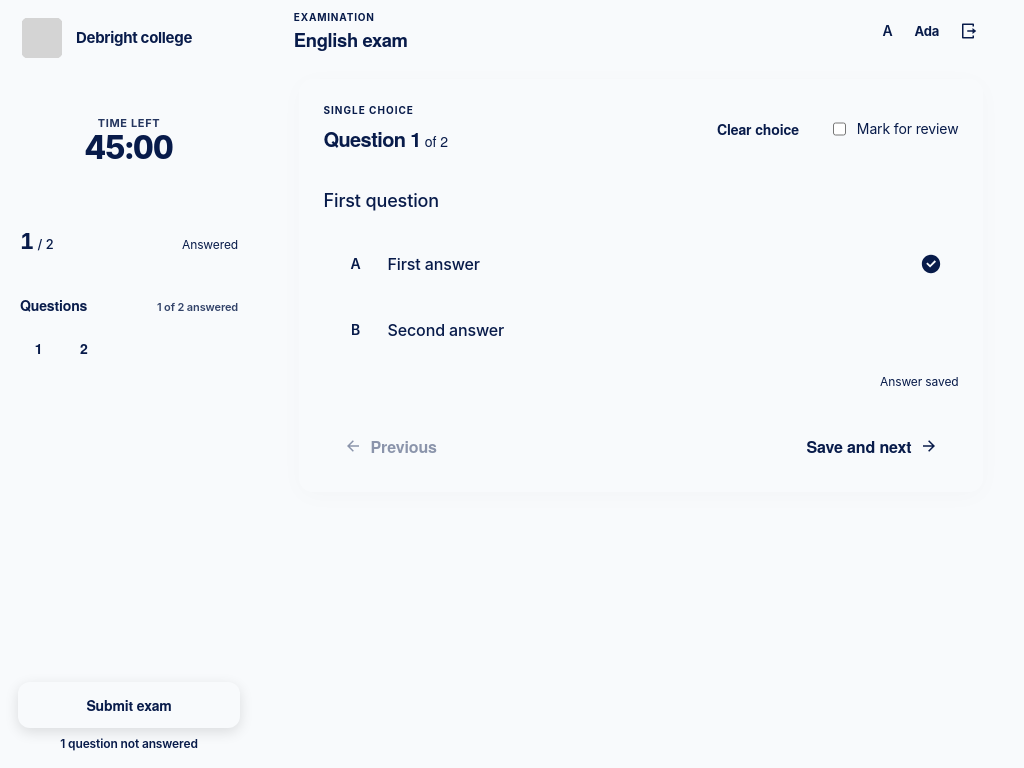
warns that logging out does not pause an active attempt
Expected: the text "First question" is shown, [324,190,439,211]
Click the button named "Logout".
click(968, 31)  # box [951,14,985,48]
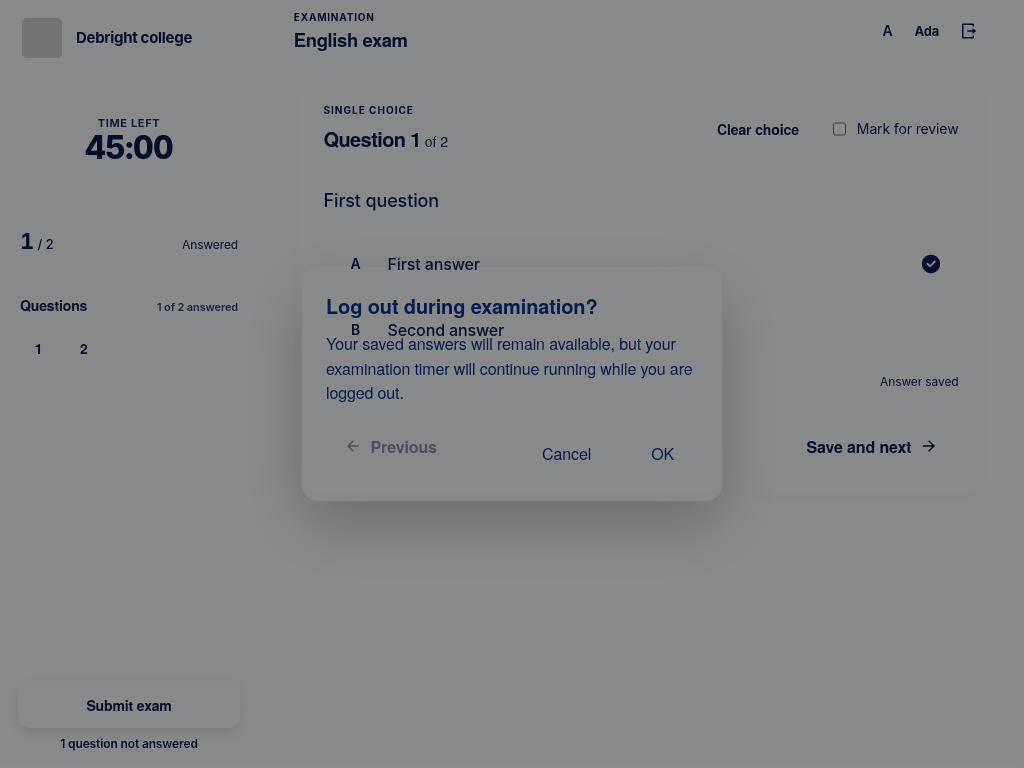
Expected: the dialog "Log out during examination?" shows "timer will continue running while you are logged out", [326,332,692,404]
